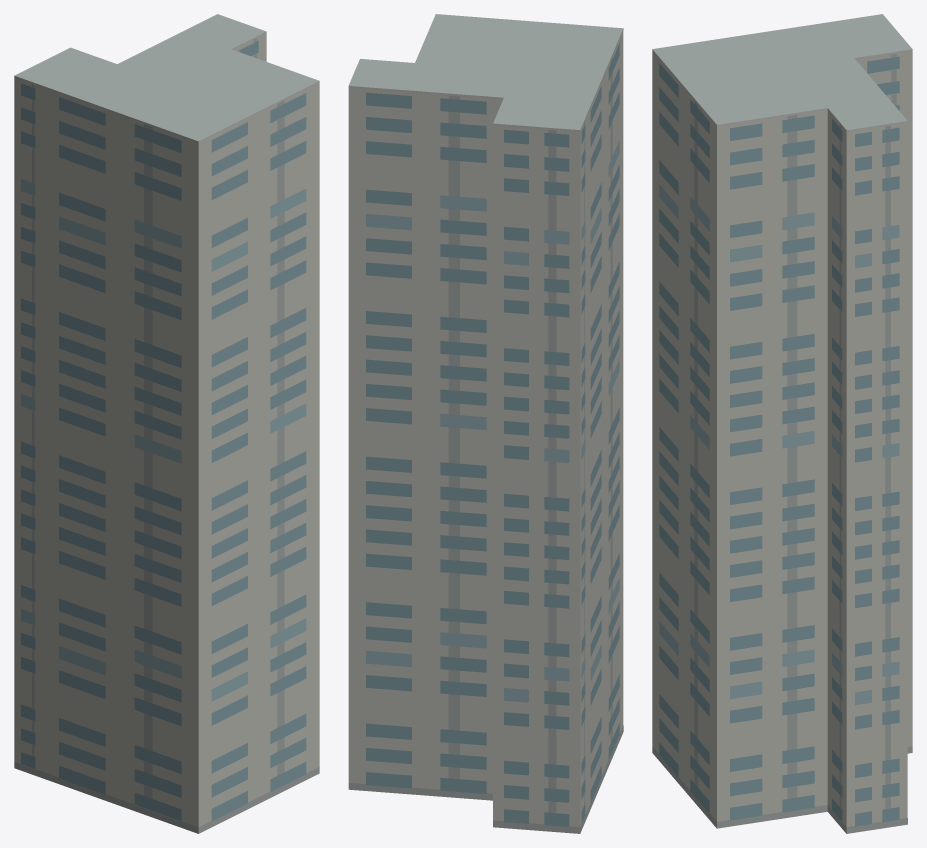
File: residential-5b3f61e9-90b9-4465-a919-18215ffee910.glb
3 views of the same model, side by side, from view 1: azimuth 30°, elevation 25°; view 2: azimuth 150°, elevation 25°; view 3: azimuth 270°, elevation 25° (orthographic).
Visible parts, largest first — view 1: residential-5b3f61e9-90b9-4465-a919-18215ffee910.tmp; view 2: residential-5b3f61e9-90b9-4465-a919-18215ffee910.tmp; view 3: residential-5b3f61e9-90b9-4465-a919-18215ffee910.tmp.
Part boxes in pixels (left/top/right/bottom): residential-5b3f61e9-90b9-4465-a919-18215ffee910.tmp: left=14, top=14, right=319, bottom=833; residential-5b3f61e9-90b9-4465-a919-18215ffee910.tmp: left=348, top=14, right=623, bottom=833; residential-5b3f61e9-90b9-4465-a919-18215ffee910.tmp: left=652, top=14, right=912, bottom=833.
Bounding box in the file's own units: 29.06 × 82 × 27.51.
